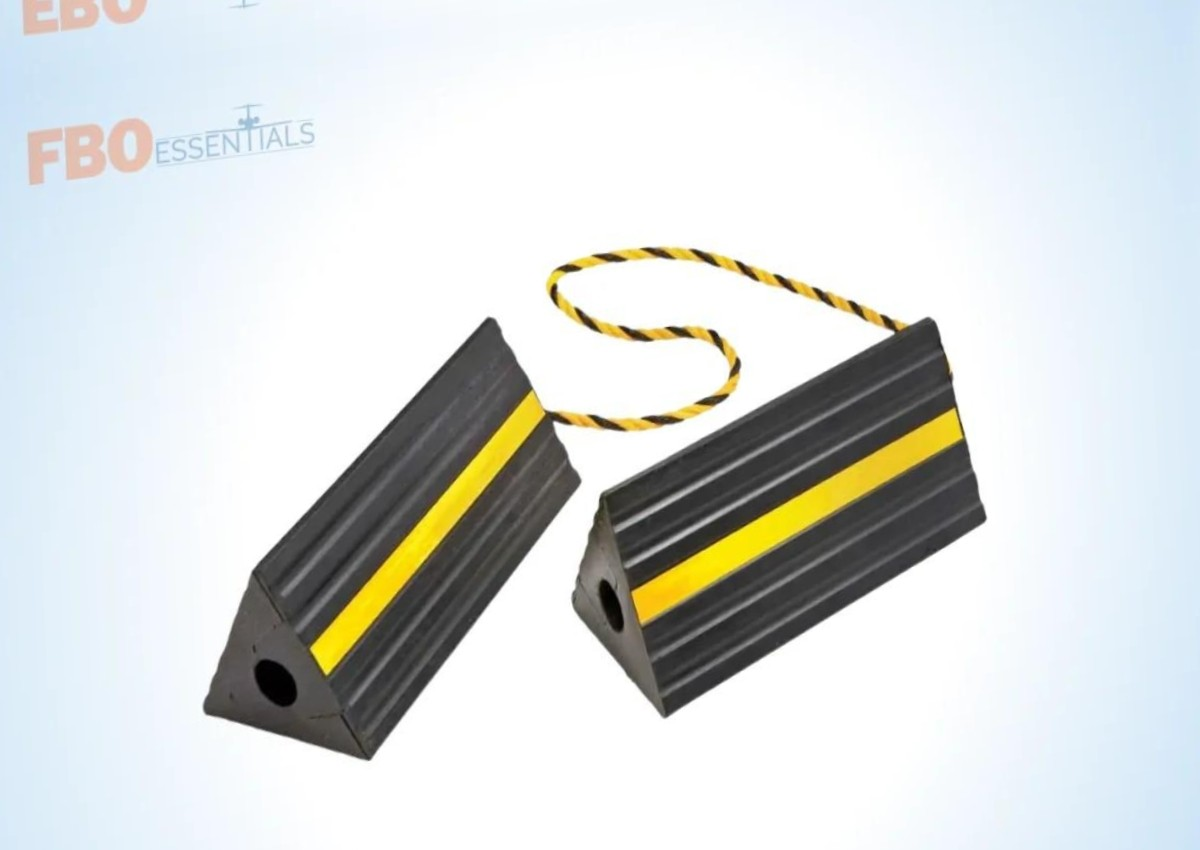chock: (153, 289, 617, 803), (544, 297, 1012, 744)
